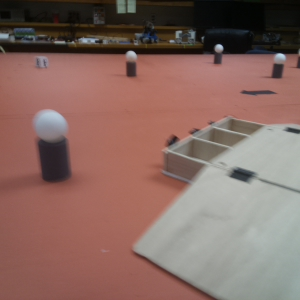blockF: (35, 54, 48, 70)
obstacle: (34, 107, 73, 182), (124, 49, 142, 77), (272, 51, 286, 77), (212, 43, 223, 63)
slope: (130, 164, 300, 299)
start: (241, 88, 276, 97)
